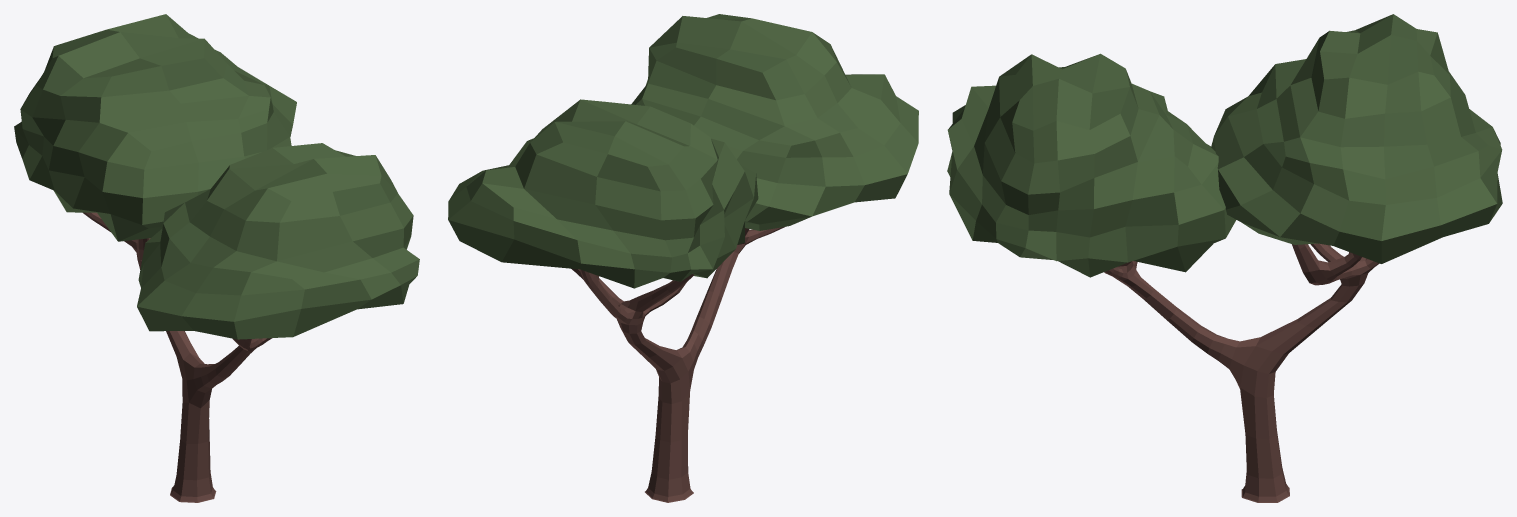
File: CommonTree_1.glb
The picture shows the model from 3 angles, left to right: view 1: azimuth 30°, elevation 25°; view 2: azimuth 150°, elevation 25°; view 3: azimuth 270°, elevation 25°; orthographic projection. The views are drawn at different scales.
Visible parts, largest first — view 1: CommonTree; view 2: CommonTree; view 3: CommonTree.
Part boxes in pixels (x1=…): CommonTree: x1=14, y1=14, x2=419, y2=502; CommonTree: x1=448, y1=14, x2=918, y2=502; CommonTree: x1=947, y1=14, x2=1502, y2=502.
Size of the model in its own units: 1.89 by 2.48 by 2.77.
